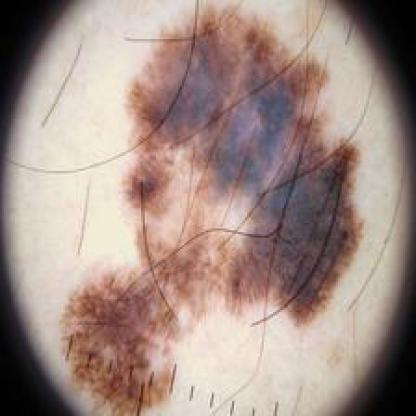malignant: (56, 21, 366, 401)
